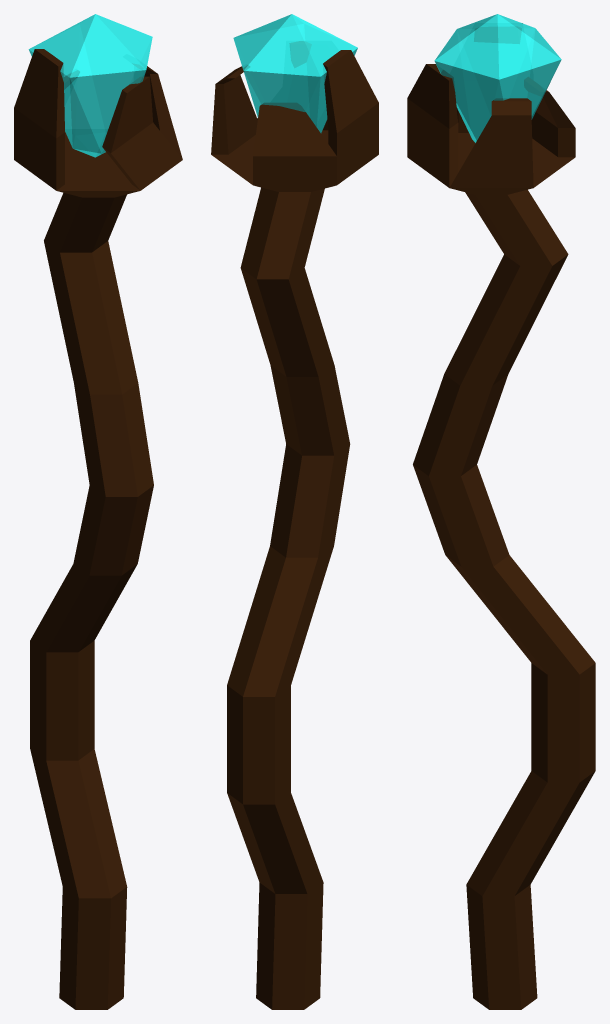
The model's file is Baston.fbx.
3 views of the same model, side by side, from view 1: azimuth 30°, elevation 25°; view 2: azimuth 150°, elevation 25°; view 3: azimuth 270°, elevation 25° (orthographic).
Parts seen in each view (by area): view 1: Base.002, Gema; view 2: Base.002, Gema; view 3: Base.002, Gema.
Part boxes in pixels (<box>): Base.002: <box>14,49,182,1009</box>; Gema: <box>28,14,152,157</box>; Base.002: <box>211,41,378,1009</box>; Gema: <box>233,14,357,133</box>; Base.002: <box>407,23,595,1009</box>; Gema: <box>434,14,561,142</box>.
Size of the model in its own units: 33.36 by 248 by 43.1.
